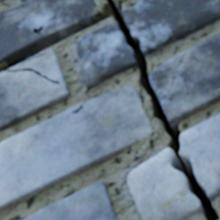brick: (0, 87, 151, 210), (149, 33, 219, 124), (0, 0, 96, 64), (0, 49, 70, 131), (24, 181, 117, 219), (0, 0, 7, 3)
broken_brick: (122, 0, 219, 56), (127, 148, 201, 219), (78, 22, 138, 88), (179, 114, 219, 199)
crack: (0, 0, 219, 219), (72, 104, 83, 113), (34, 26, 43, 36)
